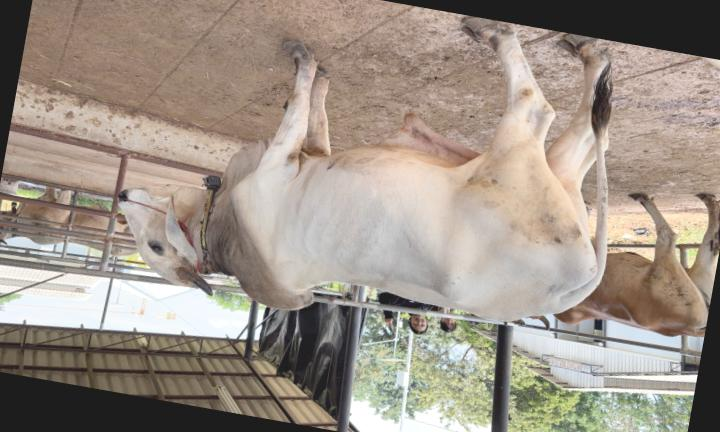Brahman: (119, 19, 611, 321)
